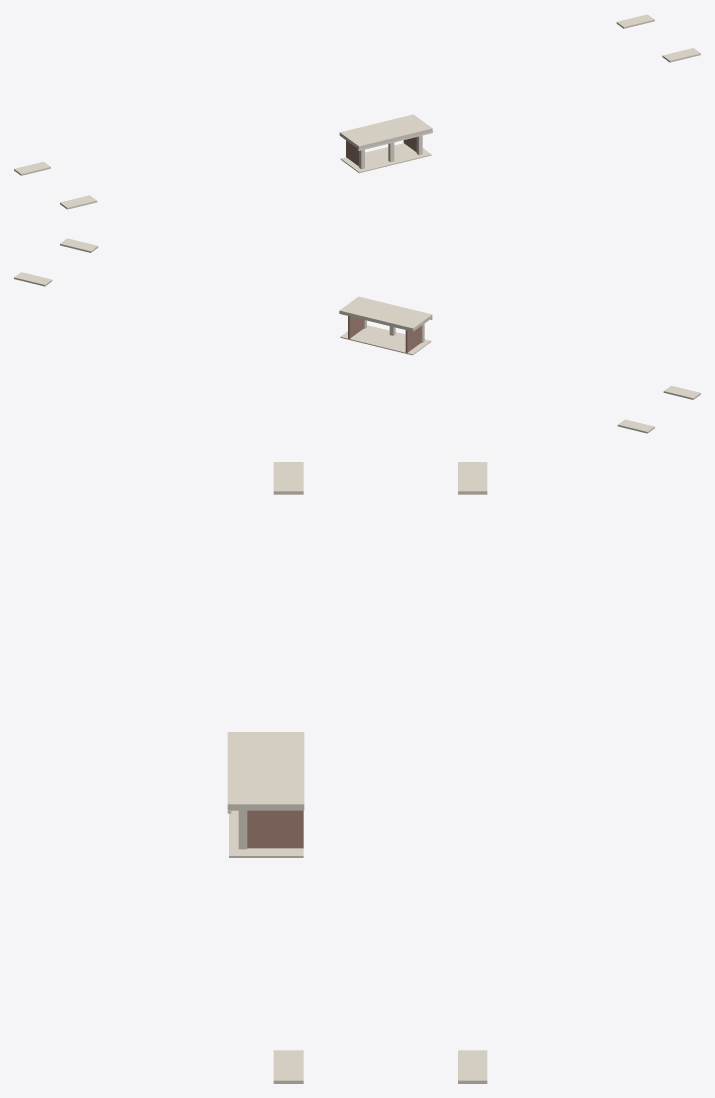
Rendered from main_porch.glb.
3 renders of one model, top to bottom at view 1: azimuth 30°, elevation 25°; view 2: azimuth 150°, elevation 25°; view 3: azimuth 270°, elevation 25°, orthographic. The views are drawn at different scales.
Parts seen in each view (by area): view 1: main_porch__stone, main_porch__brick; view 2: main_porch__stone, main_porch__brick; view 3: main_porch__stone, main_porch__brick.
Boxes of the visible parts, x1,y1,x2,y2 form: main_porch__stone: (14,14,700,209); main_porch__brick: (346,137,416,166); main_porch__stone: (14,238,700,433); main_porch__brick: (348,316,421,352); main_porch__stone: (227,462,487,1083); main_porch__brick: (247,810,303,848).
Bounding box in the file's own units: 100 × 4.1 × 17.75.
